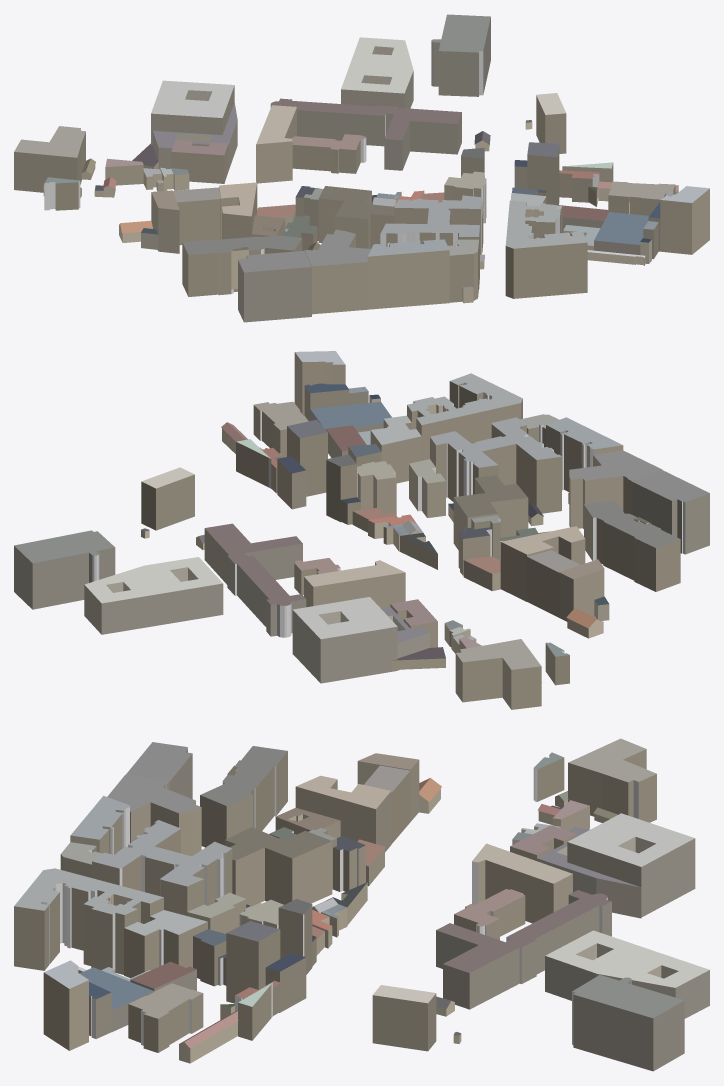
3 renders of one model, top to bottom at view 1: azimuth 30°, elevation 25°; view 2: azimuth 150°, elevation 25°; view 3: azimuth 270°, elevation 25°, orthographic. The views are drawn at different scales.
Visible parts, largest first — view 1: tuile; view 2: tuile; view 3: tuile.
Part boxes in pixels (x1=…): tuile: x1=14, y1=14, x2=709, y2=322; tuile: x1=14, y1=351, x2=709, y2=709; tuile: x1=14, y1=738, x2=709, y2=1071.
Bounding box in the file's own units: 275 × 32.85 × 282.
